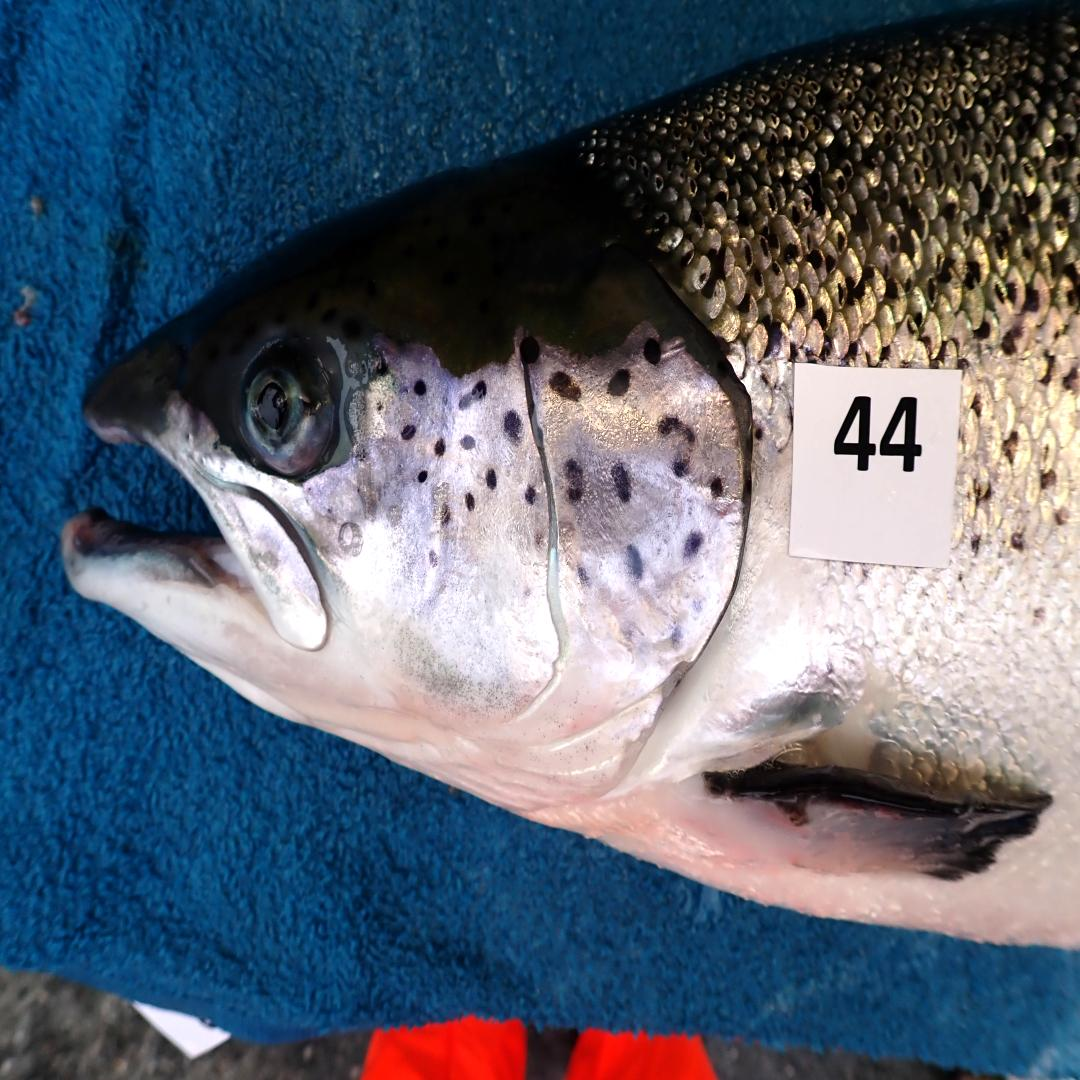roi: (332, 326, 751, 822)
